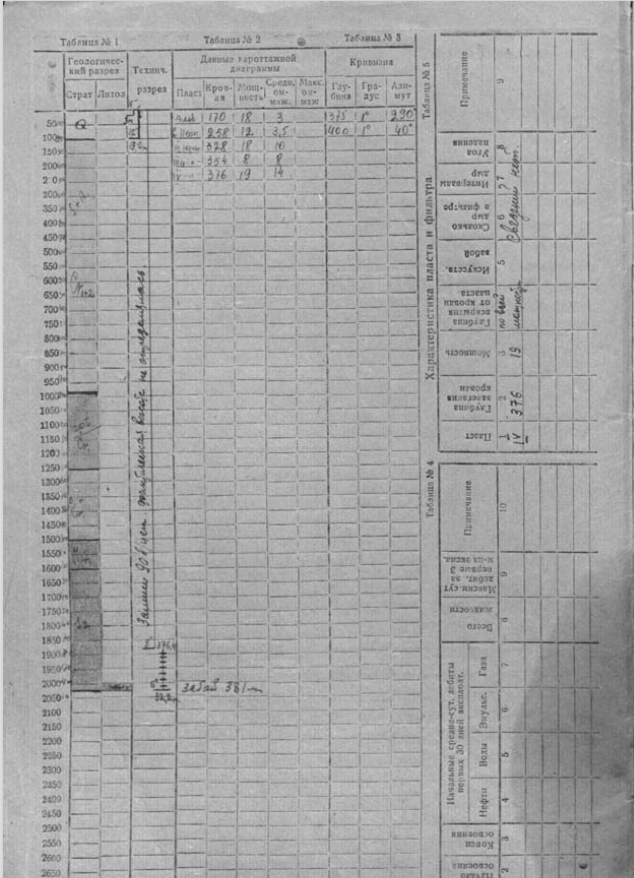Bordered: (323, 43, 424, 159)
